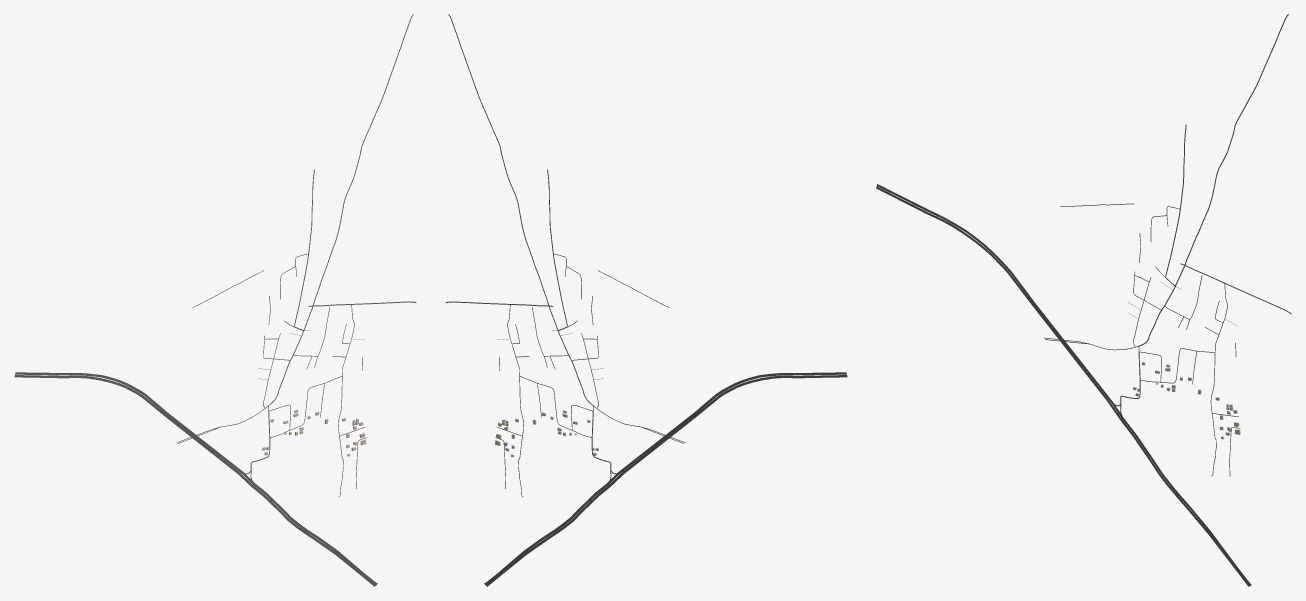
Rendered from irbid_3587_3247.glb.
3 renders of one model, left to right at view 1: azimuth 30°, elevation 25°; view 2: azimuth 150°, elevation 25°; view 3: azimuth 330°, elevation 25°, orthographic. The views are drawn at different scales.
Parts seen in each view (by area): view 1: Road .021, Road .026, Road .025; view 2: Road .021, Road .026, Road .025; view 3: Road .021, Road .026, Road .025.
Part boxes in pixels (x1,y1,x2,y2): Road .021: [14, 375, 375, 586]; Road .026: [15, 372, 377, 585]; Road .025: [250, 14, 413, 469]; Road .021: [486, 375, 847, 586]; Road .026: [484, 372, 846, 585]; Road .025: [448, 14, 611, 469]; Road .021: [876, 186, 1249, 586]; Road .026: [877, 184, 1251, 586]; Road .025: [1120, 14, 1288, 403].
Bounding box in the file's own units: 2203 × 2949 × 8.7.
